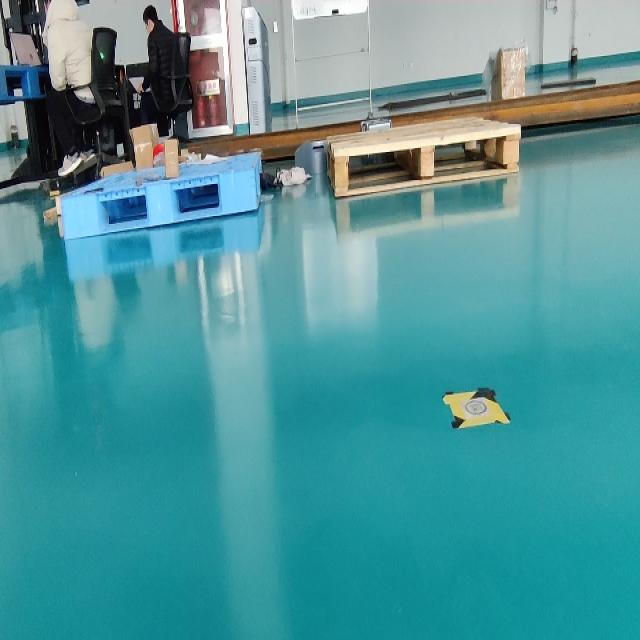euro: (327, 117, 520, 196)
